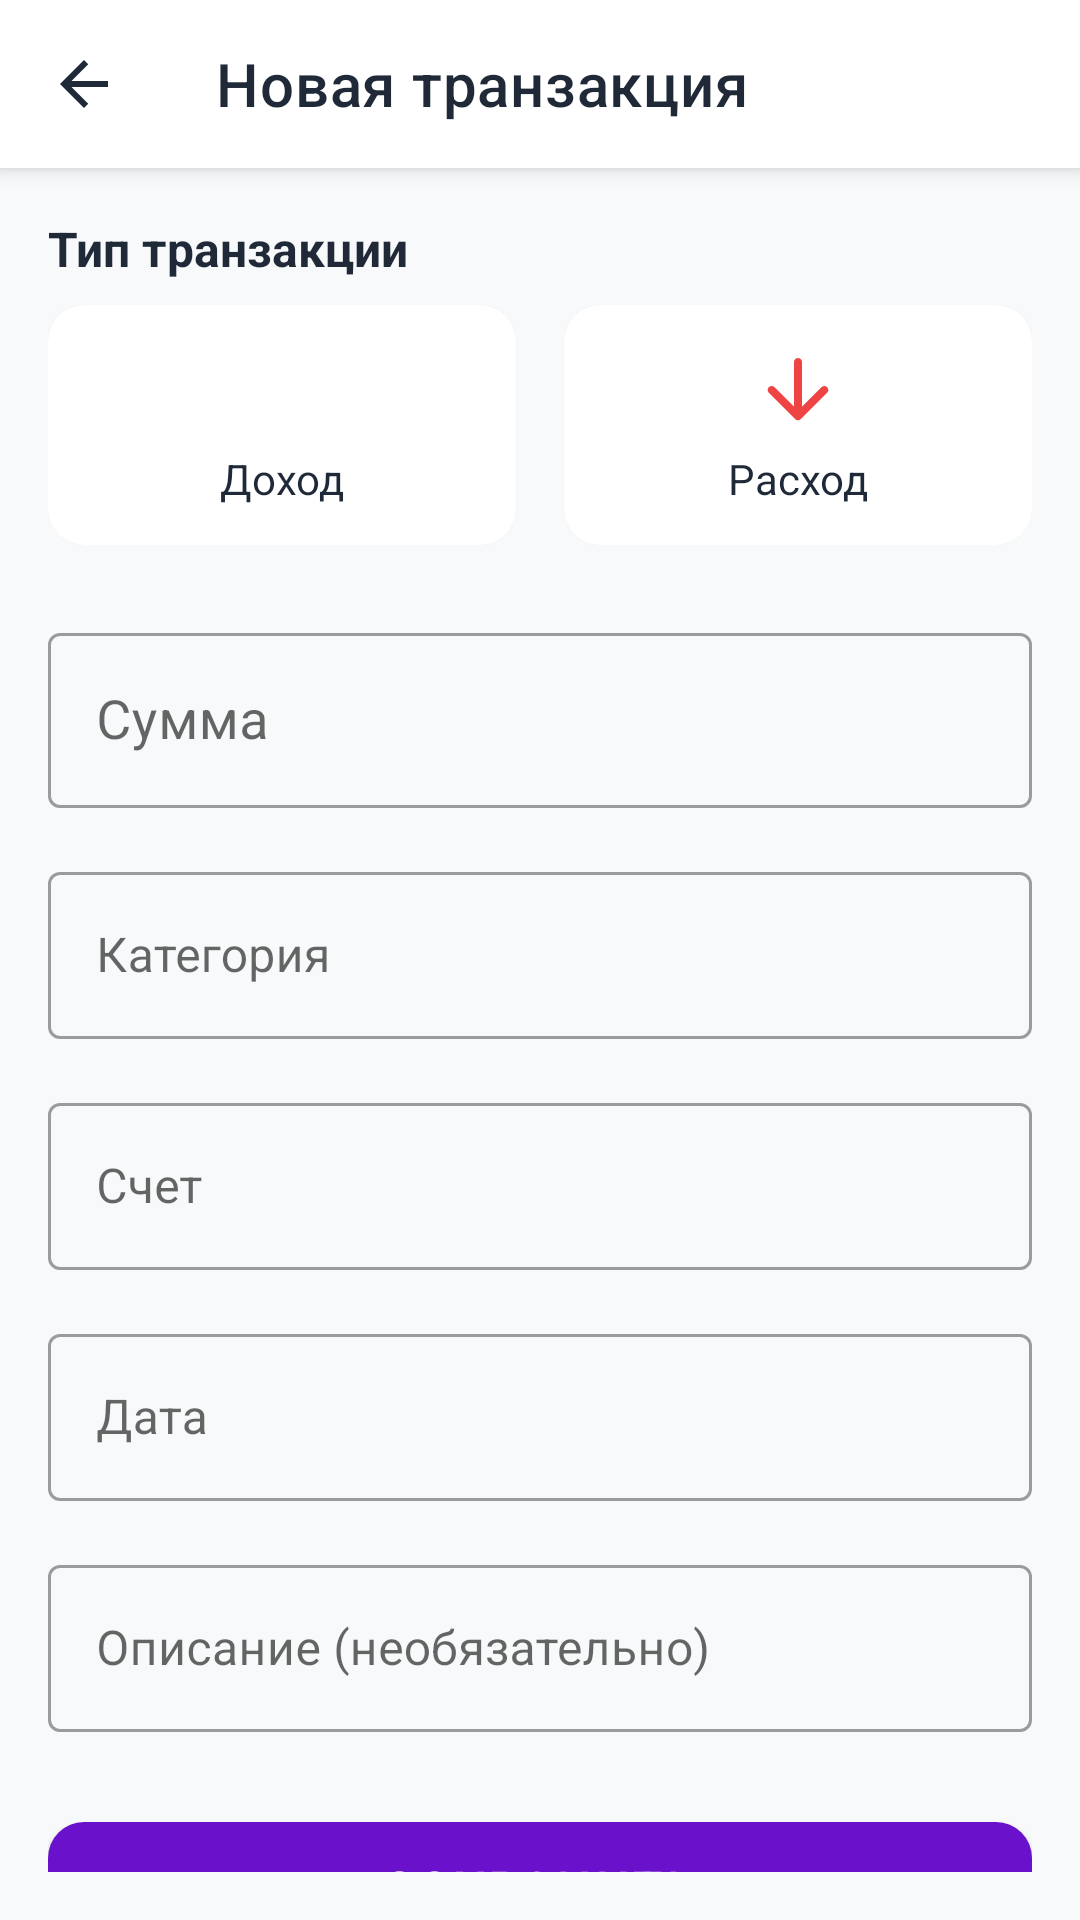

Icons on this 1080x1920 Android screen, each with the point to tap as (x=x, y=y):
arrow down: (x=798, y=389)
